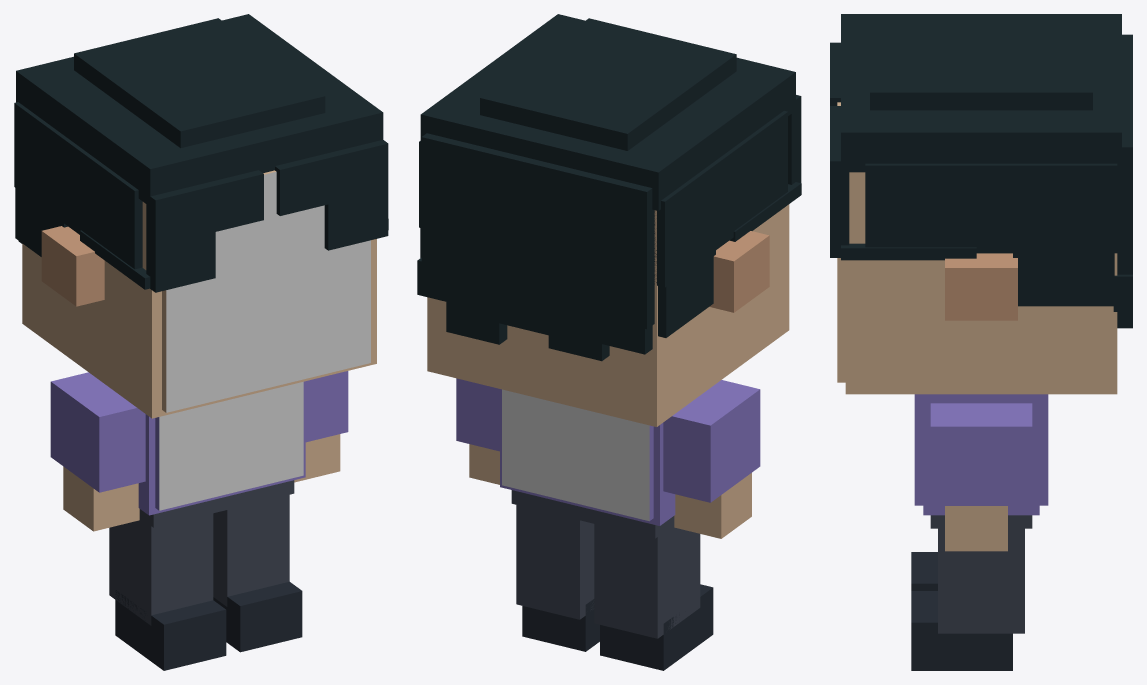
The model's file is yametaro.glb.
3 views of the same model, side by side, from view 1: azimuth 30°, elevation 25°; view 2: azimuth 150°, elevation 25°; view 3: azimuth 270°, elevation 25° (orthographic). The views are drawn at different scales.
Parts seen in each view (by area): view 1: YametaroVoxel_Root_MobileMesh, VoxelRig_LegLeft_MobileMesh, VoxelRig_ArmSecondary_MobileMesh, VoxelRig_LegRight_MobileMesh, VoxelRig_ArmPrimary_MobileMesh; view 2: YametaroVoxel_Root_MobileMesh, VoxelRig_LegLeft_MobileMesh, VoxelRig_ArmSecondary_MobileMesh, VoxelRig_LegRight_MobileMesh, VoxelRig_ArmPrimary_MobileMesh; view 3: YametaroVoxel_Root_MobileMesh, VoxelRig_ArmPrimary_MobileMesh, VoxelRig_LegRight_MobileMesh, VoxelRig_LegLeft_MobileMesh.
Part boxes in pixels (bbox=[...]): YametaroVoxel_Root_MobileMesh: bbox=[14, 14, 388, 527]; VoxelRig_LegLeft_MobileMesh: bbox=[109, 513, 226, 670]; VoxelRig_ArmSecondary_MobileMesh: bbox=[50, 372, 145, 531]; VoxelRig_LegRight_MobileMesh: bbox=[213, 494, 302, 652]; VoxelRig_ArmPrimary_MobileMesh: bbox=[294, 371, 348, 482]; YametaroVoxel_Root_MobileMesh: bbox=[417, 14, 801, 538]; VoxelRig_LegLeft_MobileMesh: bbox=[594, 524, 713, 670]; VoxelRig_ArmSecondary_MobileMesh: bbox=[663, 380, 760, 538]; VoxelRig_LegRight_MobileMesh: bbox=[516, 505, 599, 651]; VoxelRig_ArmPrimary_MobileMesh: bbox=[456, 378, 499, 484]; YametaroVoxel_Root_MobileMesh: bbox=[830, 14, 1132, 528]; VoxelRig_ArmPrimary_MobileMesh: bbox=[930, 403, 1032, 551]; VoxelRig_LegRight_MobileMesh: bbox=[911, 528, 1024, 670]; VoxelRig_LegLeft_MobileMesh: bbox=[911, 552, 937, 590].
Size of the model in its own units: 1.4 by 2.64 by 1.25.
